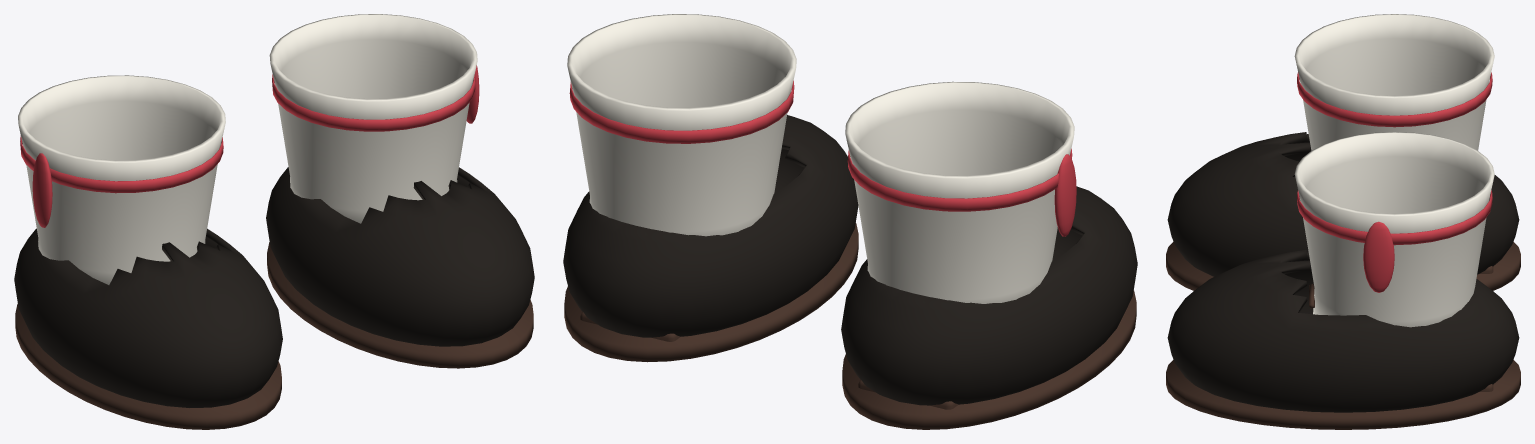
File: tufli3.fbx
3 renders of one model, left to right at view 1: azimuth 30°, elevation 25°; view 2: azimuth 150°, elevation 25°; view 3: azimuth 270°, elevation 25°, orthographic. The views are drawn at different scales.
Parts seen in each view (by area): view 1: tufli3; view 2: tufli3; view 3: tufli3.
Part boxes in pixels (x1,y1,x2,y2): tufli3: (14, 14, 534, 429); tufli3: (563, 14, 1137, 429); tufli3: (1166, 14, 1520, 429).
Bounding box in the file's own units: 0.63 × 0.3 × 0.45.
